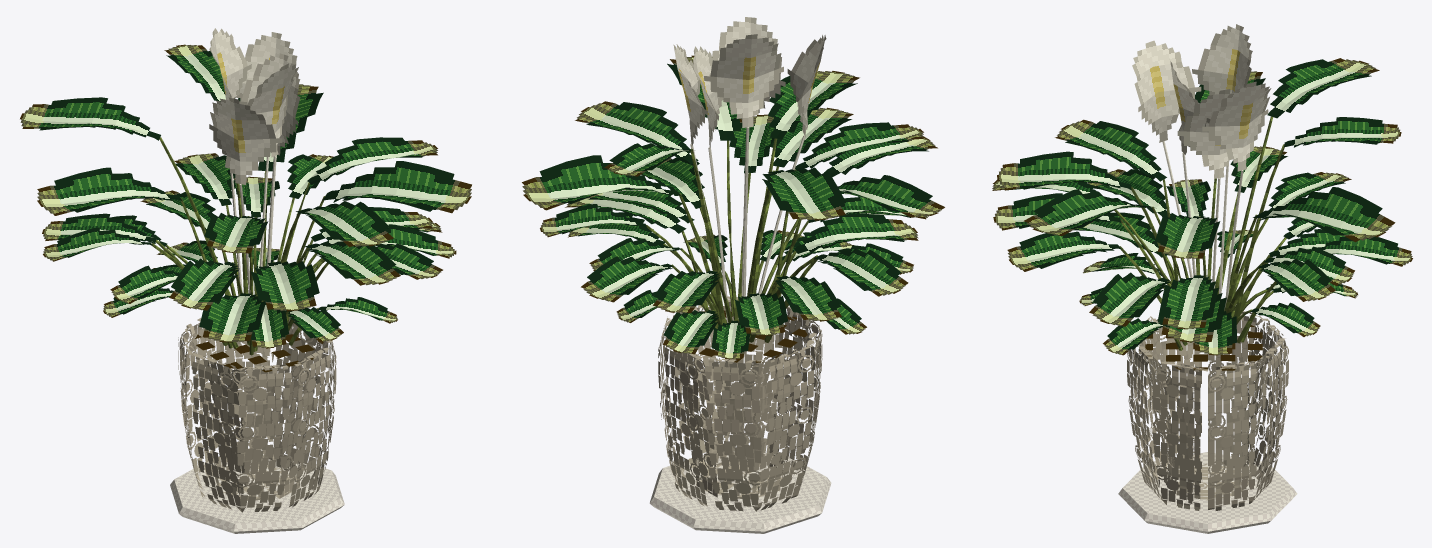
Rendered from peace_lily.obj.
The picture shows the model from 3 angles, left to right: view 1: azimuth 30°, elevation 25°; view 2: azimuth 150°, elevation 25°; view 3: azimuth 270°, elevation 25°; orthographic projection. The views are drawn at different scales.
Visible parts, largest first — view 1: Pot, Saucer, Leaf_006, Leaf_031, Spathe_04, Leaf_028, Leaf_029, Leaf_000, Leaf_010, Leaf_025, Leaf_024, Leaf_016 (+23 smaller); view 2: Pot, Saucer, Spathe_02, Leaf_021, Leaf_028, Leaf_010, Leaf_025, Leaf_031, Leaf_011, Leaf_000, Leaf_013, Leaf_007 (+30 smaller); view 3: Pot, Saucer, Leaf_021, Spathe_04, Spathe_00, Leaf_000, Leaf_028, Leaf_011, Spathe_02, Leaf_006, Leaf_012, Leaf_001 (+24 smaller).
Part boxes in pixels (box(x1,y1,x2,y2)): Pot: box(178, 317, 336, 512); Saucer: box(170, 454, 344, 533); Leaf_006: box(323, 161, 471, 213); Leaf_031: box(37, 167, 182, 215); Spathe_04: box(209, 97, 282, 184); Leaf_028: box(20, 97, 160, 140); Leaf_029: box(251, 261, 319, 311); Leaf_000: box(296, 201, 393, 246); Leaf_010: box(307, 137, 437, 184); Leaf_025: box(199, 293, 265, 342); Leaf_024: box(305, 241, 400, 285); Leaf_016: box(169, 258, 239, 310); Pot: box(658, 296, 822, 511); Saucer: box(649, 451, 831, 533); Spathe_02: box(704, 34, 783, 127); Leaf_021: box(522, 155, 682, 210); Leaf_028: box(762, 167, 845, 220); Leaf_010: box(575, 101, 698, 164); Leaf_025: box(793, 214, 918, 253); Leaf_031: box(837, 175, 944, 217); Leaf_011: box(795, 122, 923, 170); Leaf_000: box(768, 71, 859, 139); Leaf_013: box(814, 248, 908, 296); Leaf_007: box(581, 256, 674, 302); Pot: box(1127, 311, 1288, 510); Saucer: box(1118, 452, 1297, 533); Leaf_021: box(1253, 187, 1395, 242); Spathe_04: box(1132, 40, 1201, 142); Spathe_00: box(1202, 81, 1271, 171); Leaf_000: box(997, 151, 1131, 190); Leaf_028: box(1267, 58, 1379, 118); Leaf_011: box(1055, 119, 1166, 181); Spathe_02: box(1192, 24, 1252, 95); Leaf_006: box(1023, 189, 1156, 235); Leaf_012: box(1089, 272, 1170, 326); Leaf_001: box(1159, 275, 1218, 329).
Bounding box in the file's own units: 3.97 × 4.63 × 3.96.
